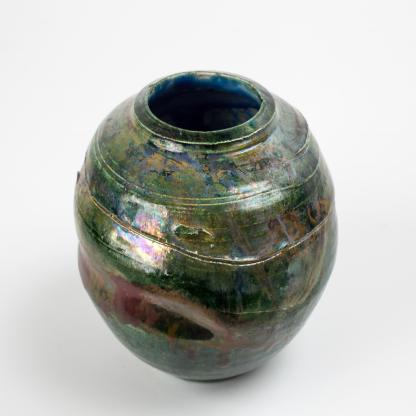vase: (72, 68, 340, 384)
